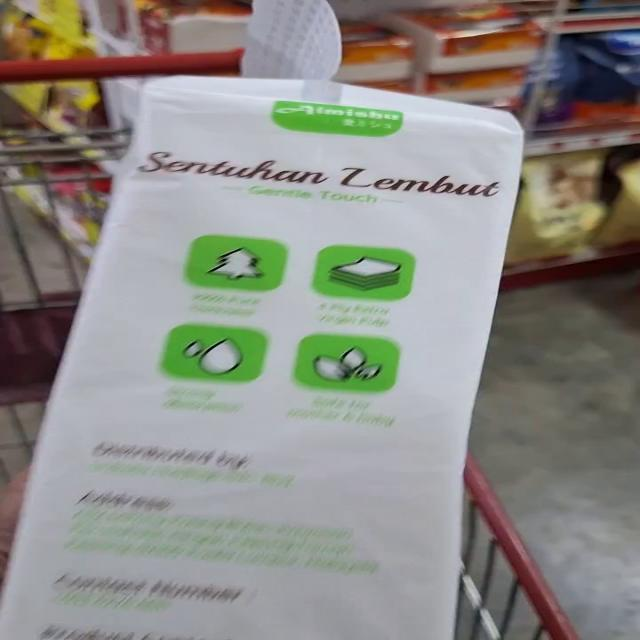Tisu: (114, 34, 536, 423), (1, 316, 494, 640)
